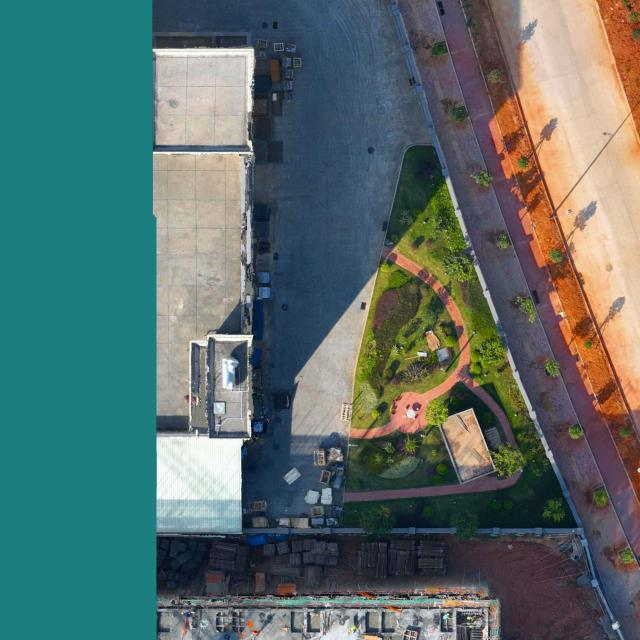Tree: (487, 441, 528, 478), (357, 505, 397, 537), (449, 508, 481, 545), (442, 247, 476, 281), (478, 336, 507, 366), (425, 400, 450, 426), (542, 498, 569, 522), (396, 434, 423, 458), (514, 296, 536, 322), (468, 169, 494, 187), (450, 104, 470, 122), (543, 358, 560, 378), (593, 485, 609, 506), (619, 548, 636, 565), (568, 424, 584, 440), (496, 234, 511, 249), (431, 44, 446, 58), (488, 69, 502, 84), (549, 248, 563, 263), (516, 156, 529, 170), (619, 426, 632, 438), (583, 340, 593, 350)
